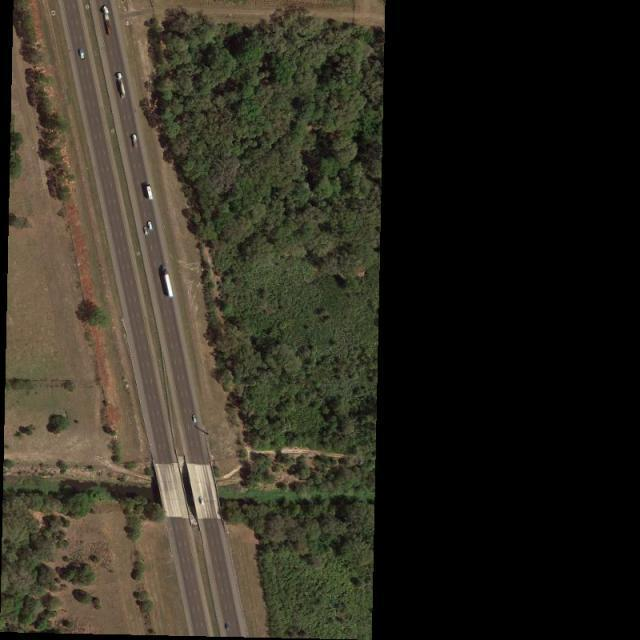vehicle: (161, 265, 174, 298), (117, 73, 127, 100), (103, 6, 112, 35), (130, 133, 139, 150), (144, 185, 153, 200), (78, 49, 86, 61), (198, 496, 206, 506), (147, 220, 154, 230), (142, 225, 149, 235), (191, 415, 198, 424), (225, 621, 230, 630)
